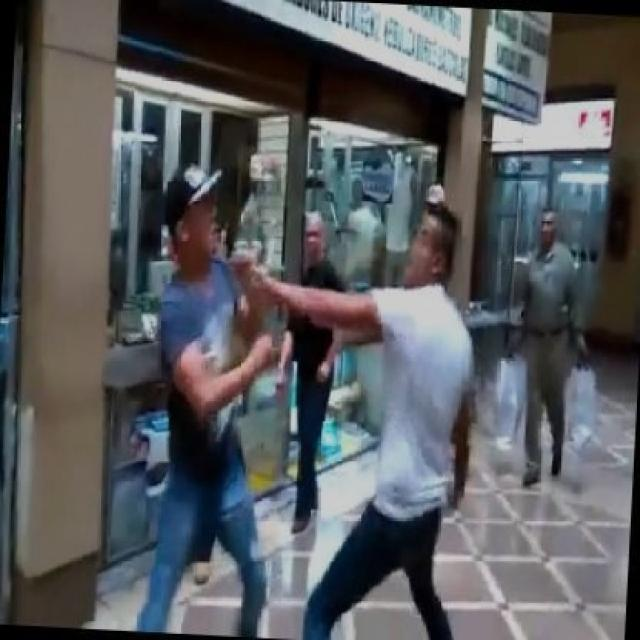fight: (115, 144, 523, 638)
non-fight: (257, 186, 365, 534), (483, 195, 605, 497)
